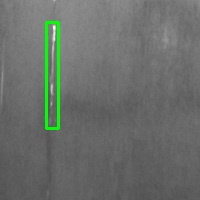scratches: (46, 22, 58, 128)
